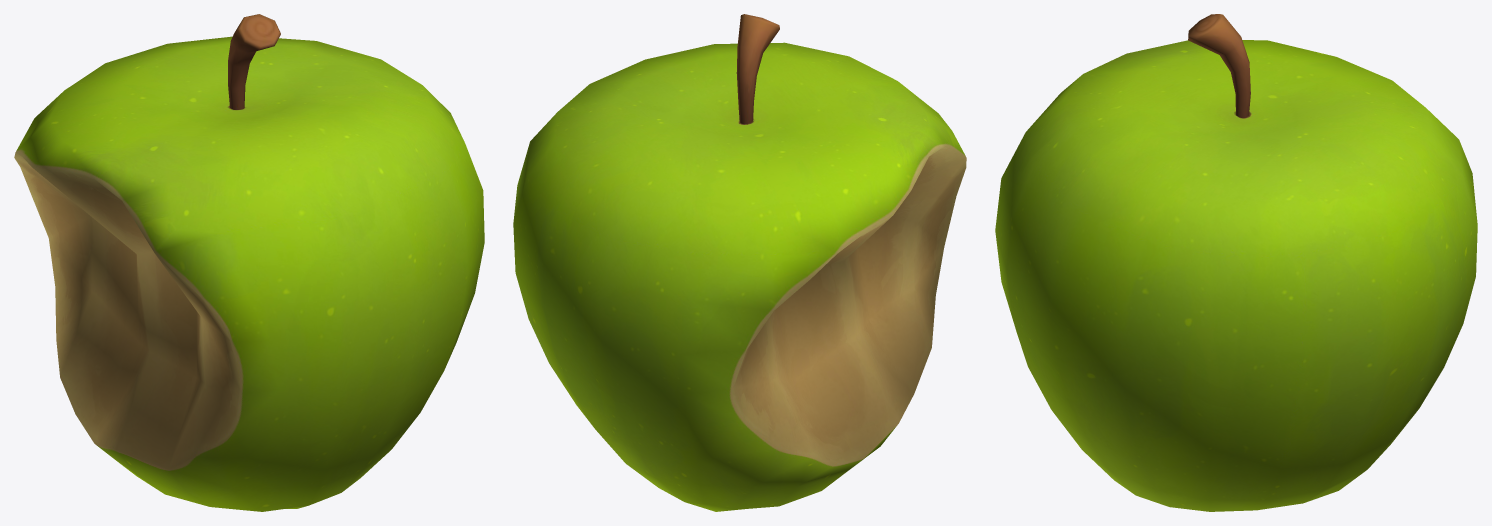
File: apple_whole_green_bitten.glb
The picture shows the model from 3 angles, left to right: view 1: azimuth 30°, elevation 25°; view 2: azimuth 150°, elevation 25°; view 3: azimuth 270°, elevation 25°; orthographic projection. The views are drawn at different scales.
Visible parts, largest first — view 1: APPLE_green_Bitten.002; view 2: APPLE_green_Bitten.002; view 3: APPLE_green_Bitten.002.
Boxes of the visible parts, x1,y1,x2,y2 form: APPLE_green_Bitten.002: [14, 14, 484, 511]; APPLE_green_Bitten.002: [513, 14, 966, 511]; APPLE_green_Bitten.002: [995, 14, 1477, 511].
Size of the model in its own units: 0.0767 by 0.0885 by 0.0821.
Materials: 1 (1 with a texture image).
